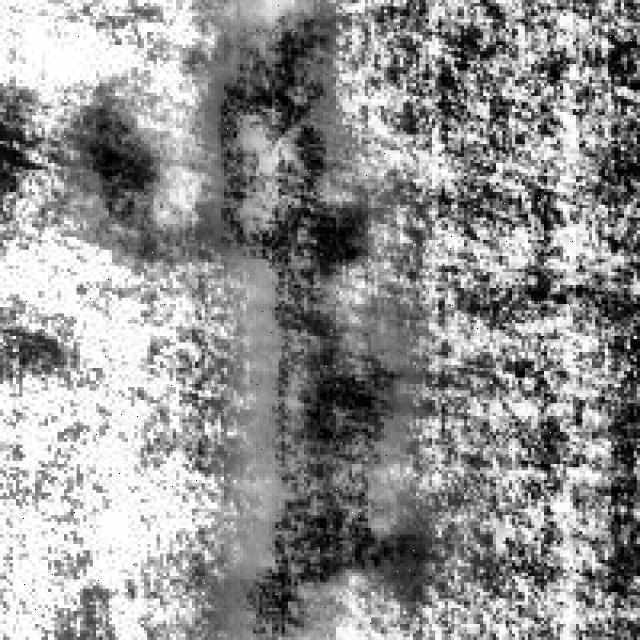Scratches: (243, 288, 422, 595), (215, 3, 372, 266), (76, 90, 180, 250)
